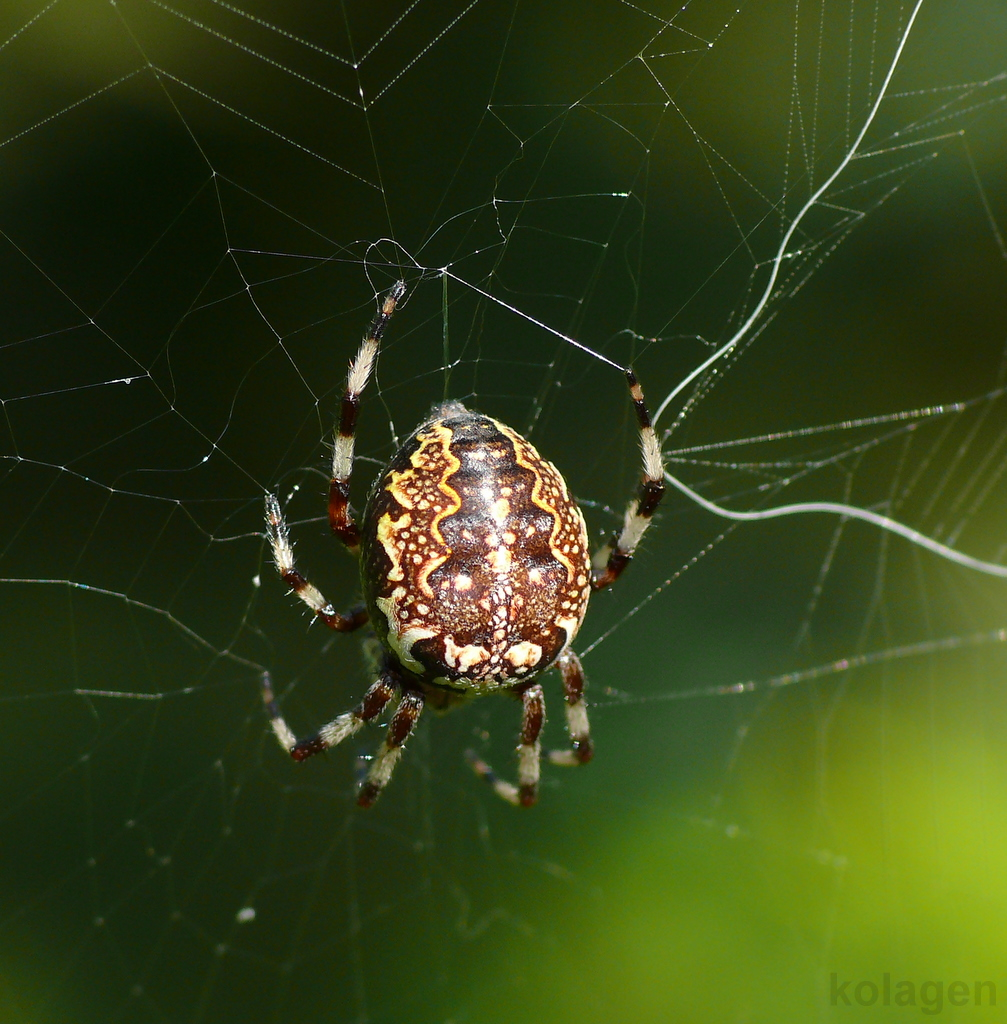spider: (216, 233, 708, 857)
